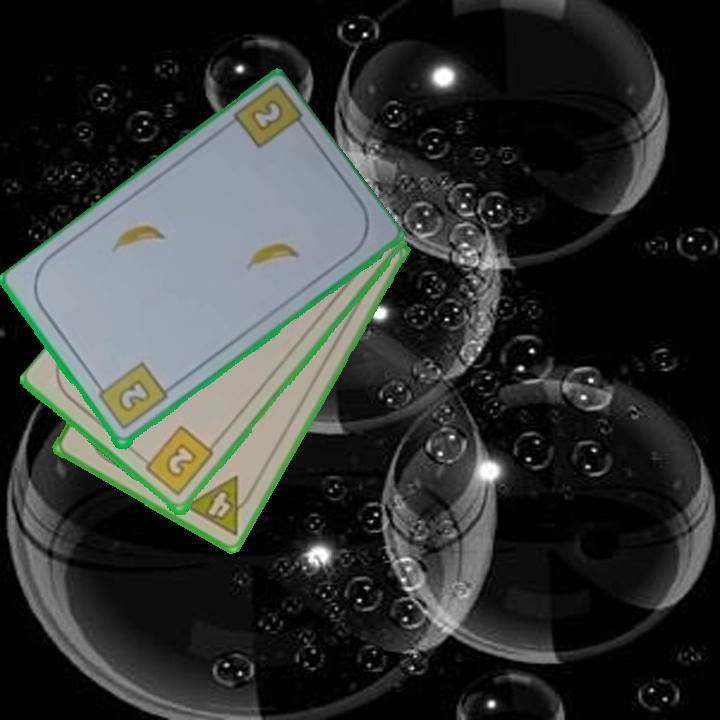2b: (136, 423, 217, 499), (92, 359, 171, 433), (246, 96, 287, 135)
4p: (181, 472, 259, 539)
